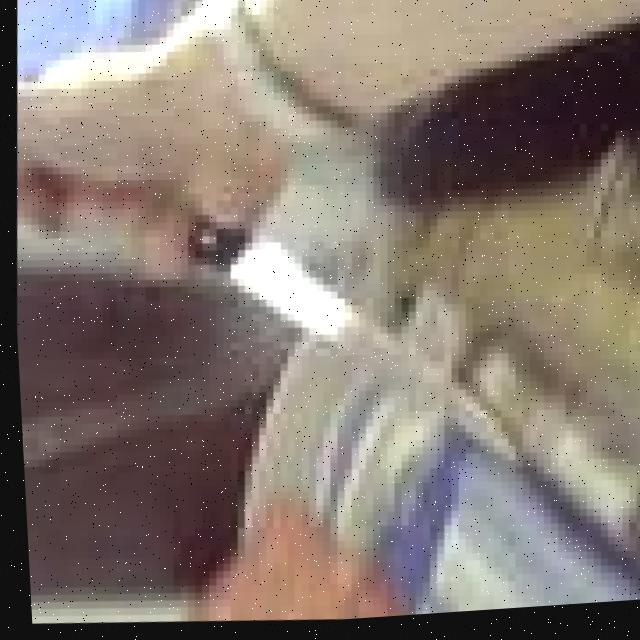knife: (166, 175, 550, 510)
